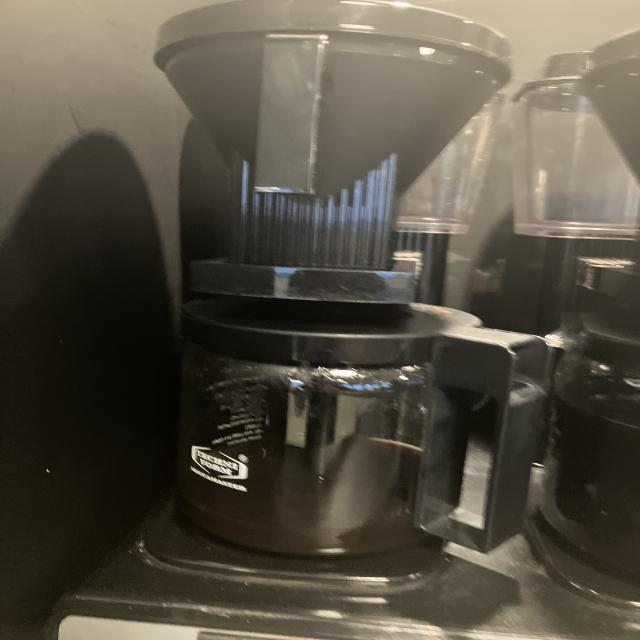coffee: (140, 290, 484, 565)
